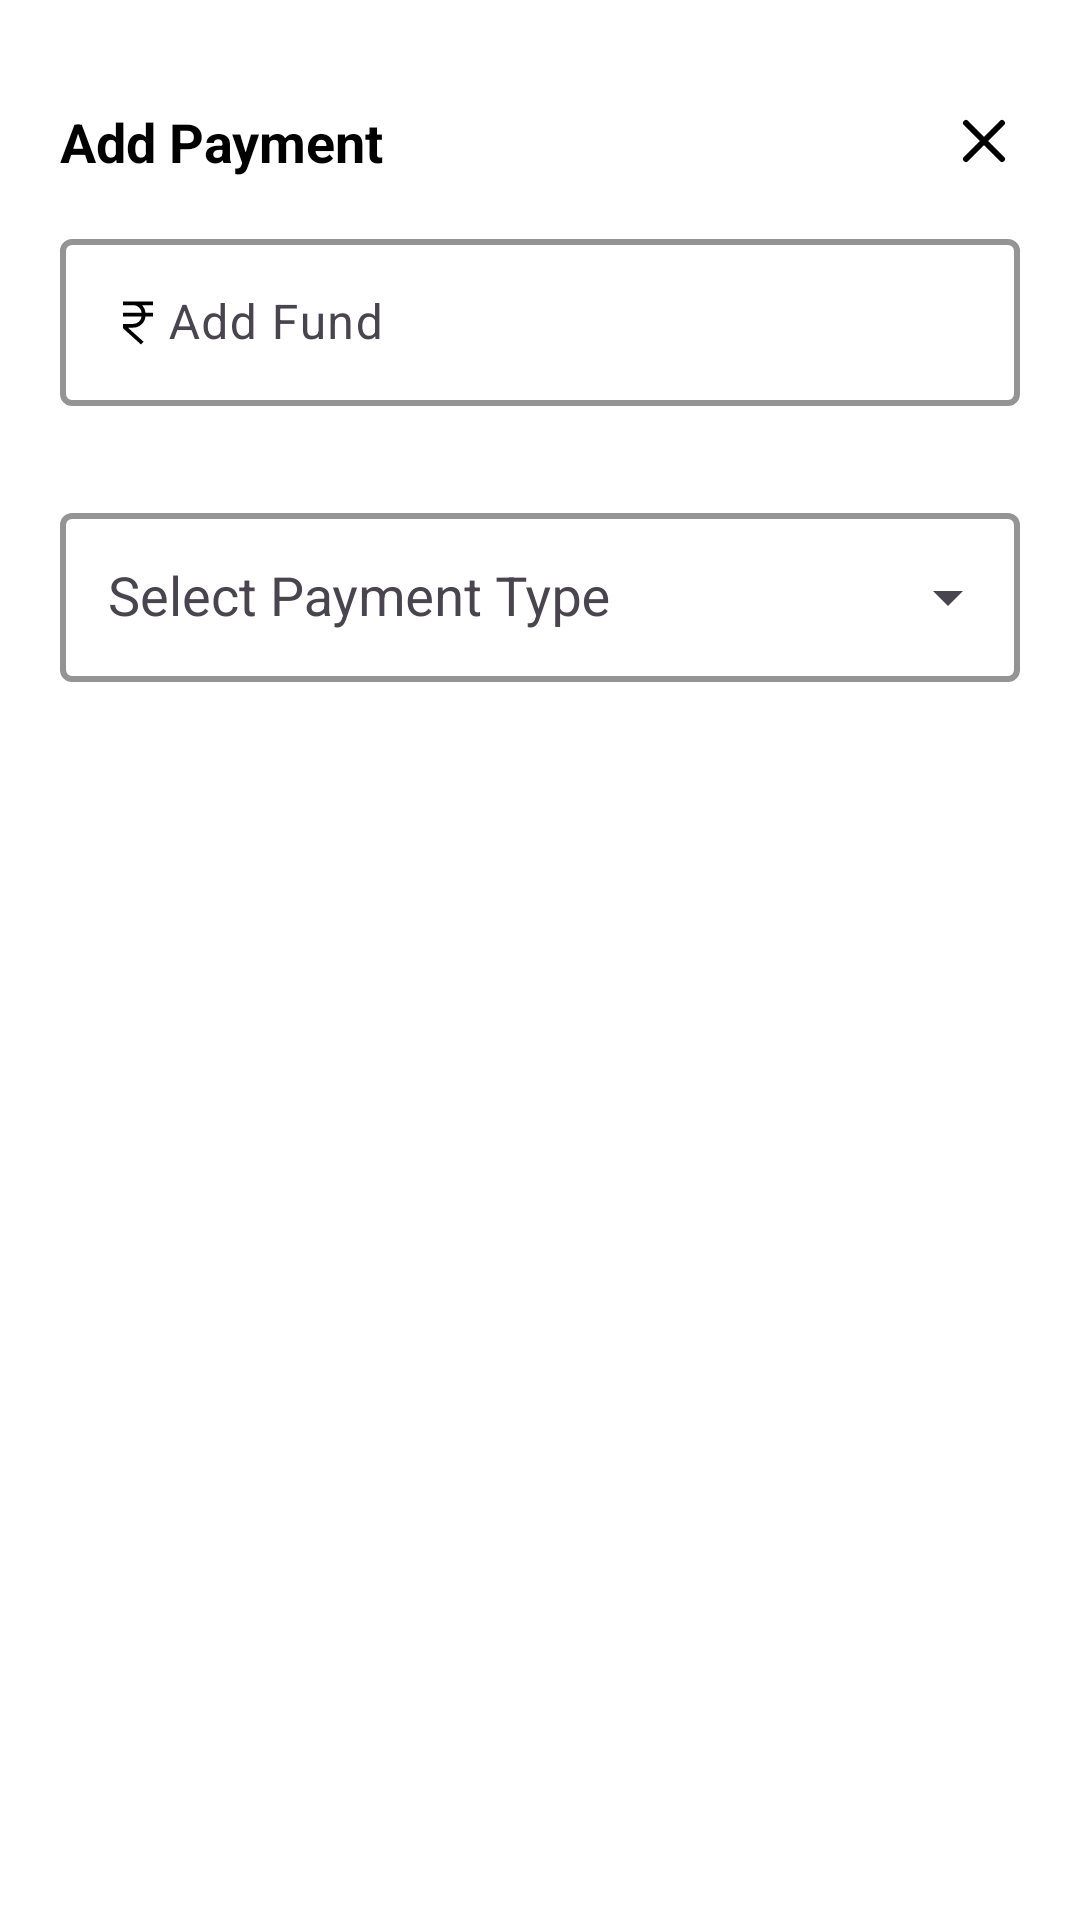

Icons on this 1080 x 1920 Android screen, each with its box as [x1=x1, y1=y1, x2=x2, y2=y2]:
close: [x1=963, y1=120, x2=1005, y2=162]
